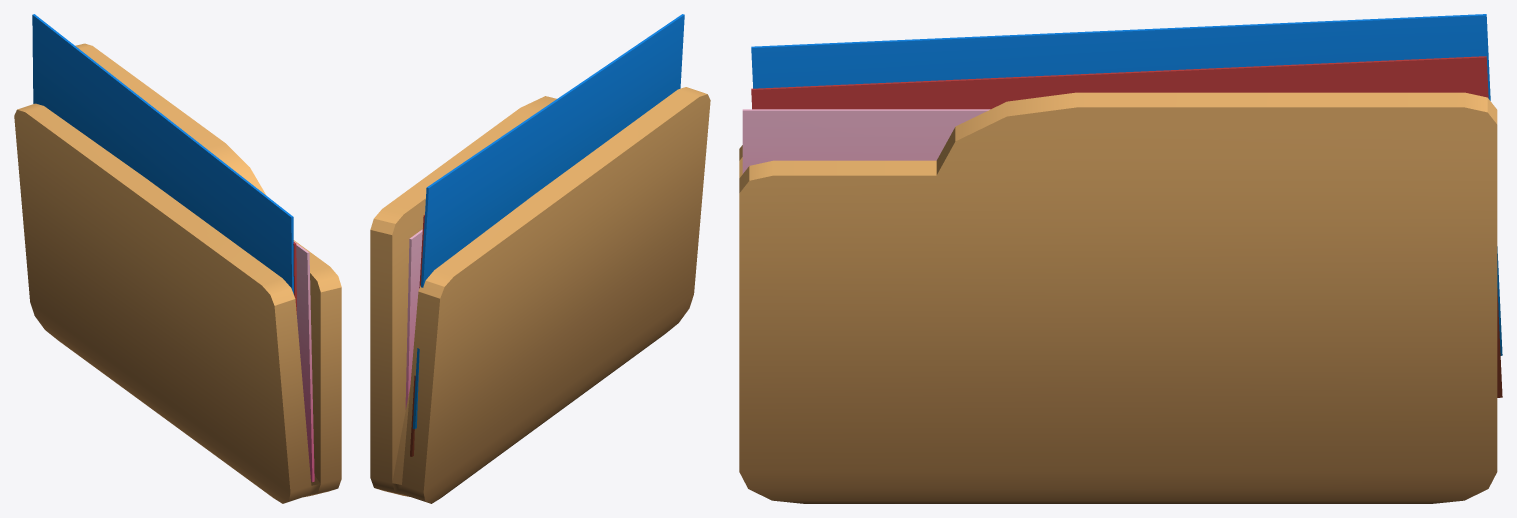
The model's file is Folder.fbx.
3 views of the same model, side by side, from view 1: azimuth 30°, elevation 25°; view 2: azimuth 150°, elevation 25°; view 3: azimuth 270°, elevation 25° (orthographic). The views are drawn at different scales.
Visible parts, largest first — view 1: Cube; view 2: Cube; view 3: Cube.
Part boxes in pixels (x1,y1,x2,y2): Cube: (14, 14, 341, 503); Cube: (370, 14, 710, 503); Cube: (739, 14, 1502, 503).
Size of the model in its own units: 5.3 by 23.28 by 35.24.
